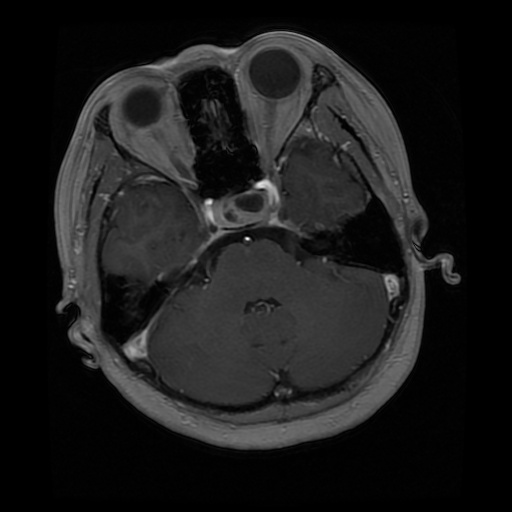pituitary: (205, 179, 279, 230)
